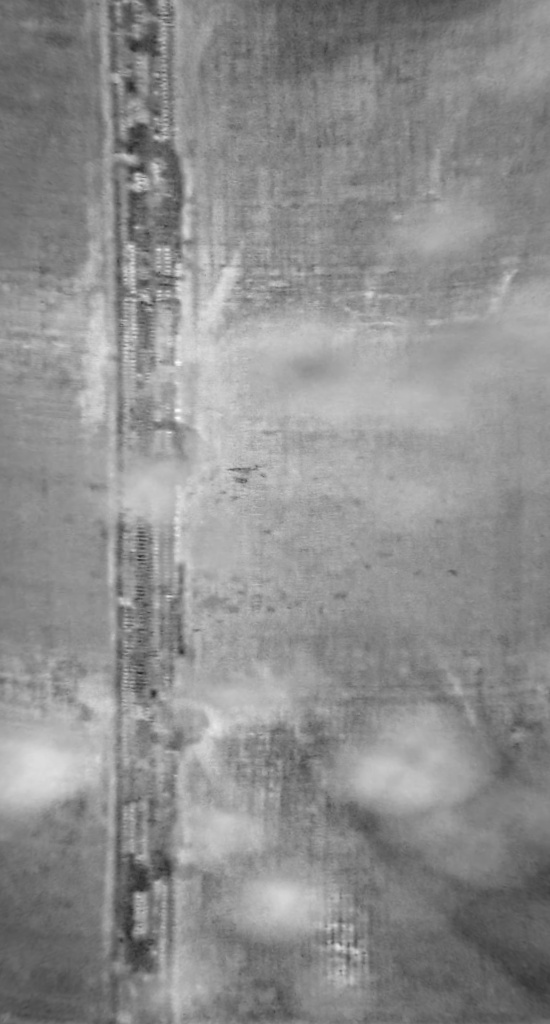splice: (104, 1, 207, 1023)
